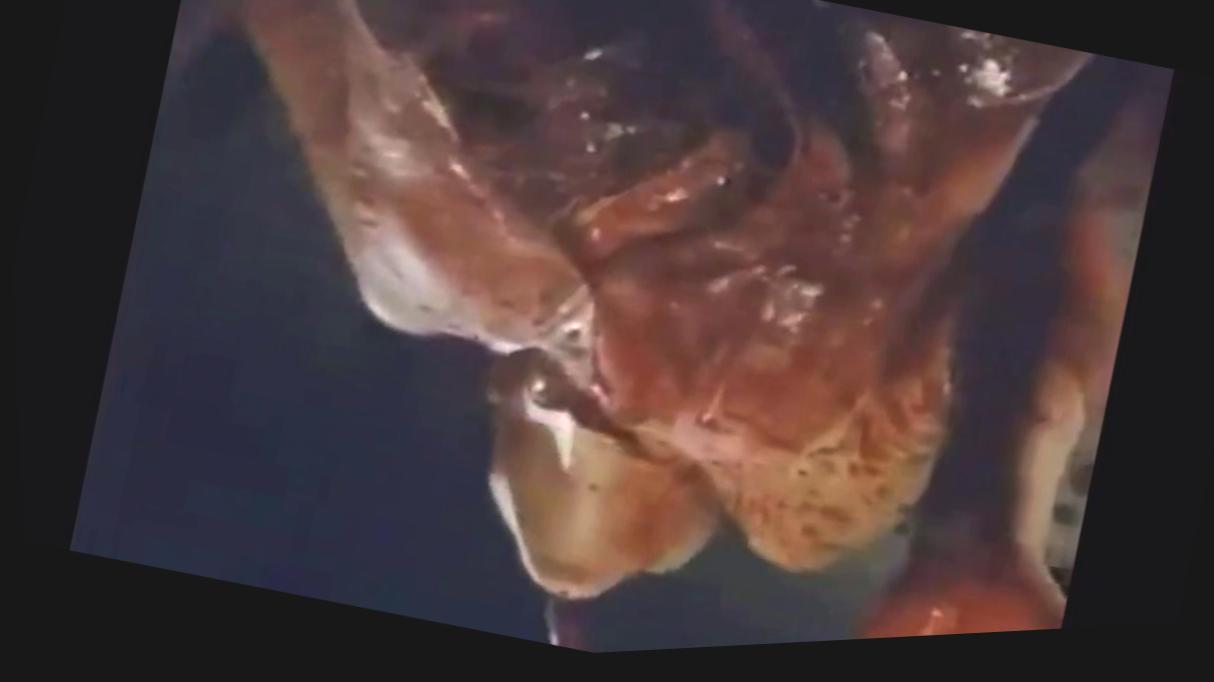Fire: (240, 0, 1127, 648)
